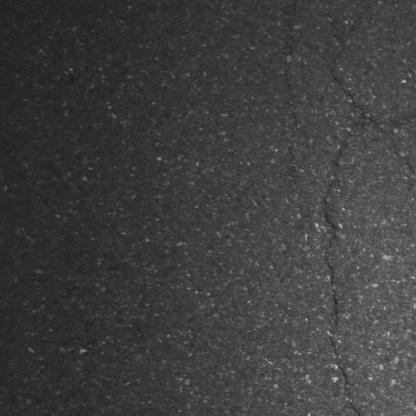Cracks: (320, 29, 416, 416), (278, 0, 306, 176)
